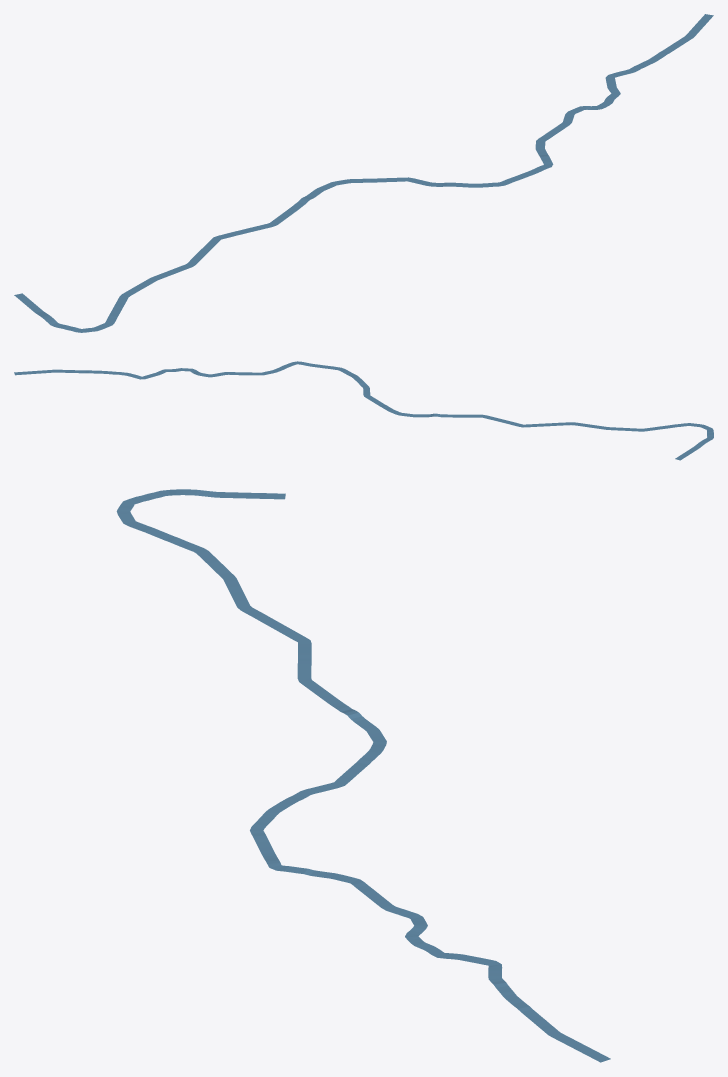
Rendered from c_1627_17833_water.glb.
3 renders of one model, top to bottom at view 1: azimuth 30°, elevation 25°; view 2: azimuth 150°, elevation 25°; view 3: azimuth 270°, elevation 25°, orthographic. The views are drawn at different scales.
Visible parts, largest first — view 1: geometry_0; view 2: geometry_0; view 3: geometry_0.
Boxes of the visible parts, x1,y1,x2,y2 form: geometry_0: [14, 14, 713, 332]; geometry_0: [14, 361, 713, 460]; geometry_0: [116, 489, 610, 1062].
Size of the model in its own units: 1195 by 5.05 by 433.
